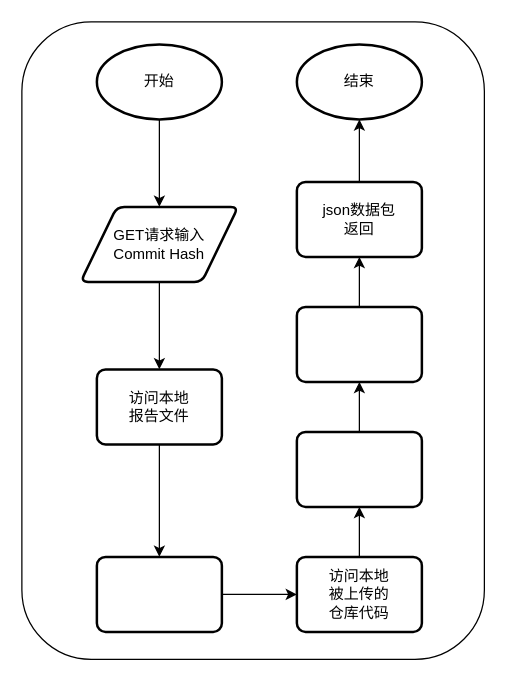
The diagram is 506 pixels wide and 681 high, and some of its shapes have lost their labels. Here are the shapes that lost their labels. From the top down, the box of each, then its label:
(295, 305, 422, 382): 整合报告信息 以及上下文
(295, 430, 422, 508): 获取上下文
(95, 555, 222, 632): 提取报告信息
